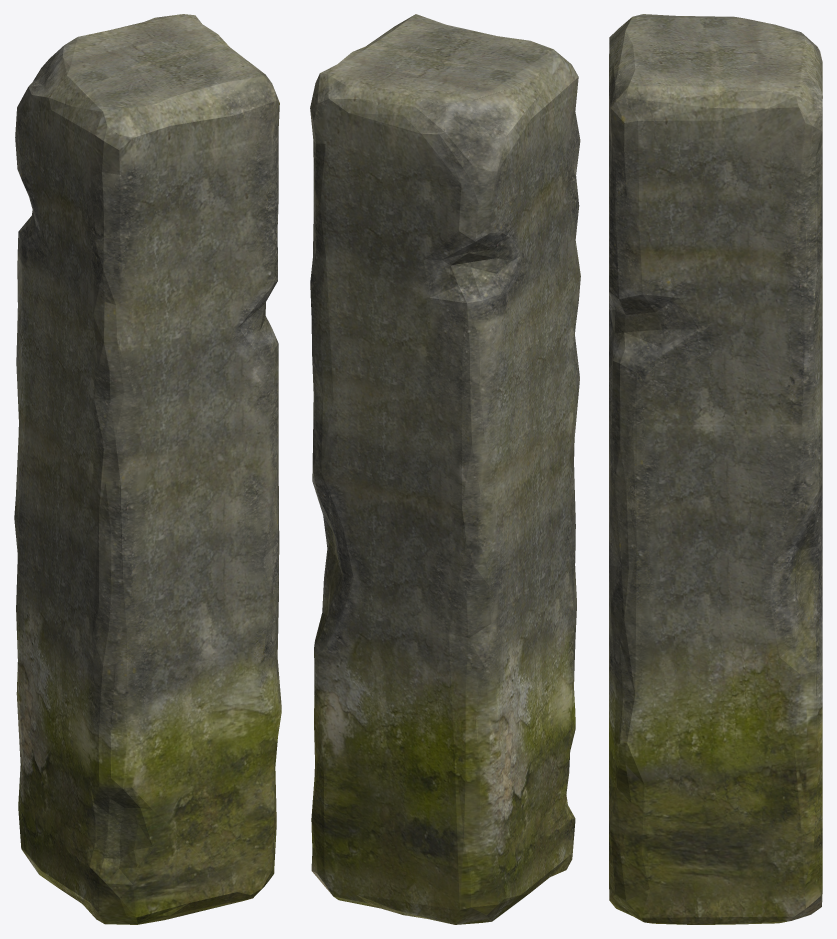
File: pillar.glb
3 renders of one model, left to right at view 1: azimuth 30°, elevation 25°; view 2: azimuth 150°, elevation 25°; view 3: azimuth 270°, elevation 25°, orthographic. The views are drawn at different scales.
Parts seen in each view (by area): view 1: Pillar lp; view 2: Pillar lp; view 3: Pillar lp.
Part boxes in pixels (left/top/right/bottom): Pillar lp: left=14, top=14, right=281, bottom=924; Pillar lp: left=310, top=14, right=580, bottom=924; Pillar lp: left=609, top=14, right=822, bottom=924.
Size of the model in its own units: 200 by 864 by 200.
Materials: 1 (1 with a texture image).
